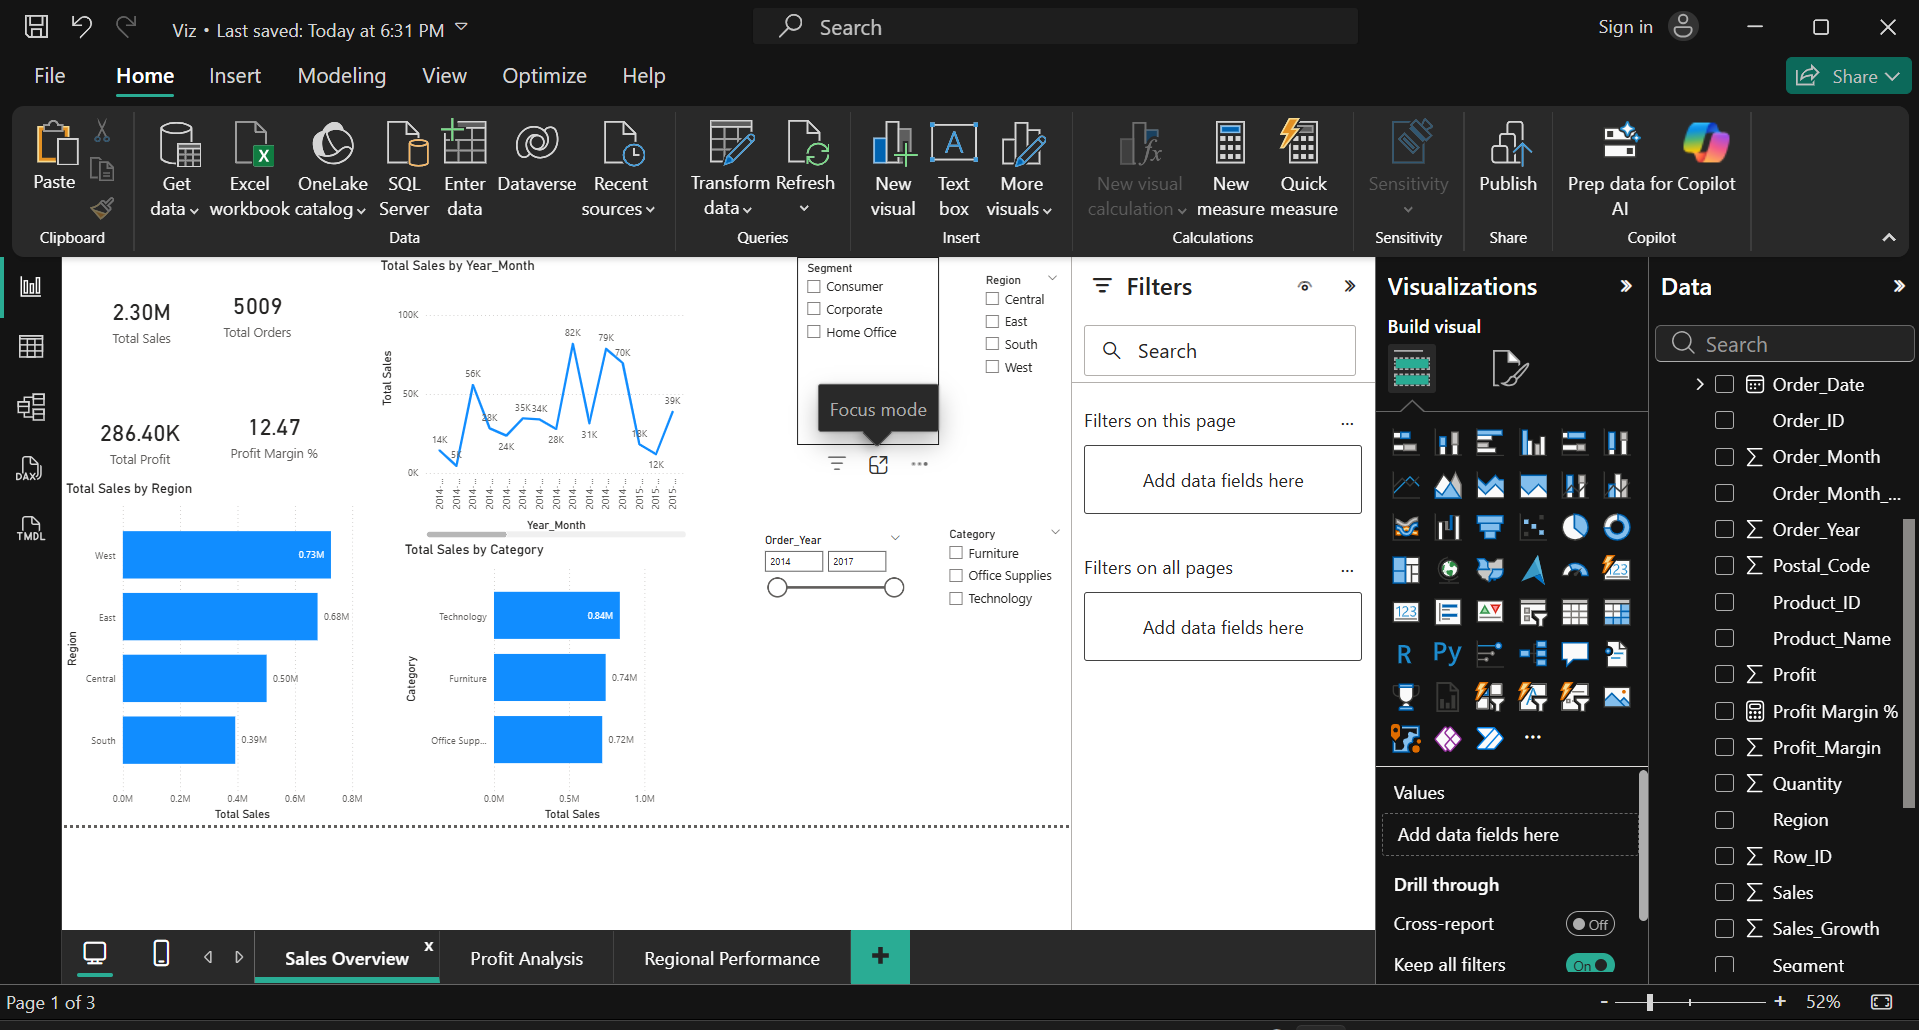

Layout of this report page (visuals, bound fields, positions):
{"tool":"powerbi","page":{"name":"Sales Overview","canvas":[1280,720],"ordinal":0},"visuals":[{"type":"card","fields":{"Values":["superstore_clean.Total Sales"]},"box":[9.6,0,182.2,157.3],"z":0},{"type":"card","fields":{"Values":["superstore_clean.Total Profit"]},"box":[0,153.4,197.5,157.3],"z":1000},{"type":"card","fields":{"Values":["superstore_clean.Total Orders"]},"box":[163,0,168.8,140],"z":2000},{"type":"card","fields":{"Values":["superstore_clean.Profit Margin %"]},"box":[163,153.4,211,140],"z":3000},{"type":"clusteredBarChart","fields":{"Category":["superstore_clean.Category"],"Y":["superstore_clean.Total Sales"]},"box":[429.6,360.5,335.6,358.6],"z":4000},{"type":"barChart","fields":{"Category":["superstore_clean.Region"],"Y":["superstore_clean.Total Sales"]},"box":[0,283.8,398.9,435.3],"z":5000},{"type":"lineChart","fields":{"Category":["superstore_clean.Year_Month"],"Y":["superstore_clean.Total Sales"]},"box":[398.9,0,397,360.5],"z":6000},{"type":"slicer","fields":{"Values":["superstore_clean.Region"]},"box":[1158.3,15.3,117,161.1],"z":7000},{"type":"slicer","fields":{"Values":["superstore_clean.Category"]},"box":[1112.3,337.5,166.8,203.3],"z":8000},{"type":"slicer","fields":{"Values":["superstore_clean.Segment"]},"box":[932,0,180.3,237.8],"z":9000},{"type":"slicer","fields":{"Values":["superstore_clean.Order_Year"]},"box":[878.3,345.2,197.5,237.8],"z":10000}]}

Visuals, with their boxes on the page's 1280x720 design canvas (x1, y1, x2, y2). These are canvas units, not pixel positions in the 1919x1030 screenshot, which may show the page scaled, cropped or inside an application window:
card - superstore_clean.Total Sales: <bbox>10, 0, 192, 157</bbox>
card - superstore_clean.Total Profit: <bbox>0, 153, 198, 311</bbox>
card - superstore_clean.Total Orders: <bbox>163, 0, 332, 140</bbox>
card - superstore_clean.Profit Margin %: <bbox>163, 153, 374, 293</bbox>
clusteredBarChart - superstore_clean.Category x superstore_clean.Total Sales: <bbox>430, 360, 765, 719</bbox>
barChart - superstore_clean.Region x superstore_clean.Total Sales: <bbox>0, 284, 399, 719</bbox>
lineChart - superstore_clean.Year_Month x superstore_clean.Total Sales: <bbox>399, 0, 796, 360</bbox>
slicer - superstore_clean.Region: <bbox>1158, 15, 1275, 176</bbox>
slicer - superstore_clean.Category: <bbox>1112, 338, 1279, 541</bbox>
slicer - superstore_clean.Segment: <bbox>932, 0, 1112, 238</bbox>
slicer - superstore_clean.Order_Year: <bbox>878, 345, 1076, 583</bbox>
